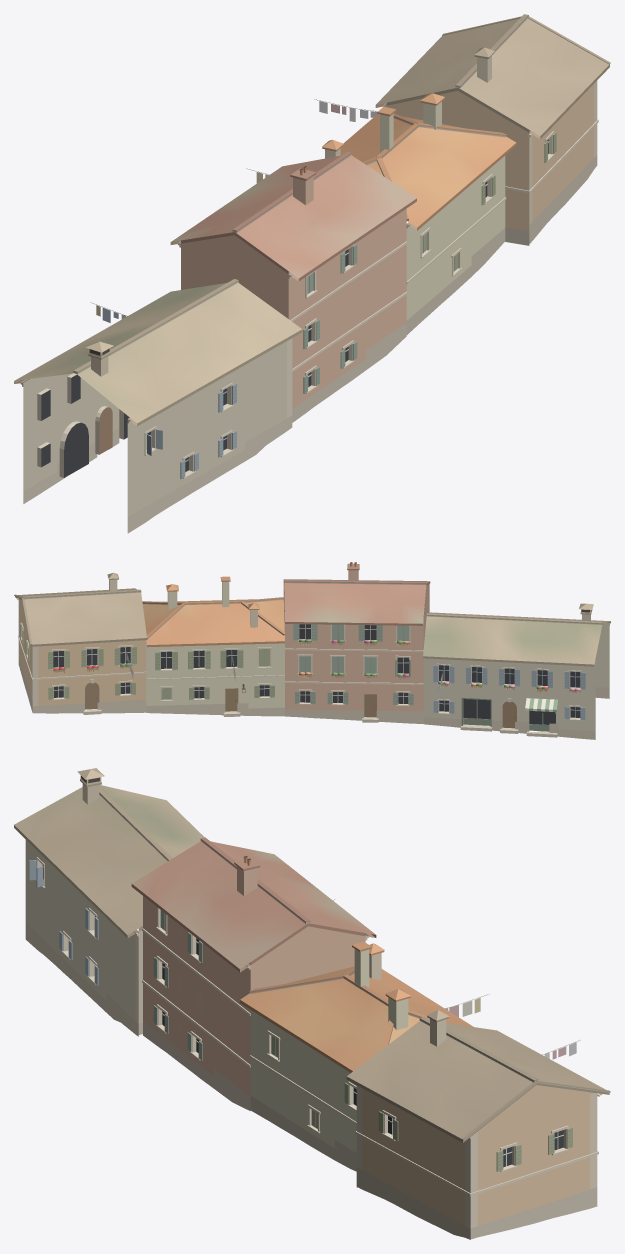
Rendered from SM_BM_BT_blk_32.glb.
3 views of the same model, one above another, from view 1: azimuth 30°, elevation 25°; view 2: azimuth 150°, elevation 25°; view 3: azimuth 270°, elevation 25° (orthographic). The views are drawn at different scales.
Visible parts, largest first — view 1: SM_BM_BT_blk_32; view 2: SM_BM_BT_blk_32; view 3: SM_BM_BT_blk_32.
Part boxes in pixels (x1,y1,x2,y2): SM_BM_BT_blk_32: (14,14,610,533); SM_BM_BT_blk_32: (14,562,610,739); SM_BM_BT_blk_32: (14,768,610,1239).
Bounding box in the file's own units: 49.33 × 14.25 × 33.47.
